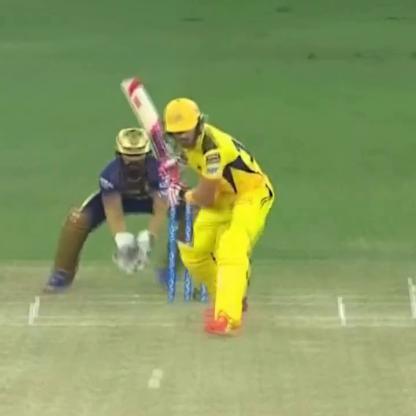ball: (148, 360, 173, 376), (140, 380, 160, 390)
bat: (116, 69, 184, 194)
pitch: (4, 294, 416, 416)
